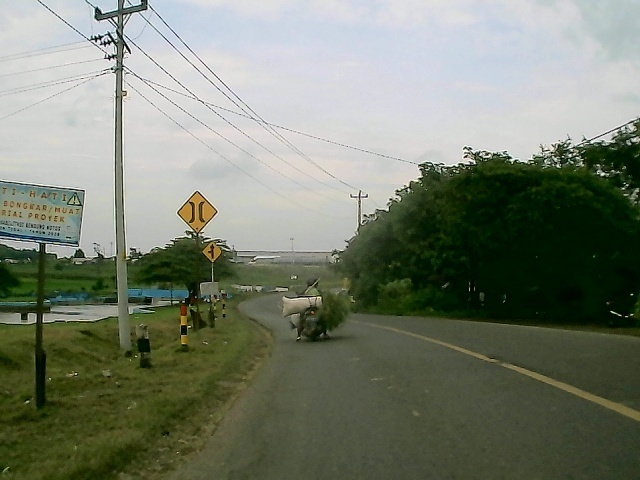Jembatan: (174, 189, 221, 235)
Simpang kiri dengan prioritas: (201, 241, 224, 263)
